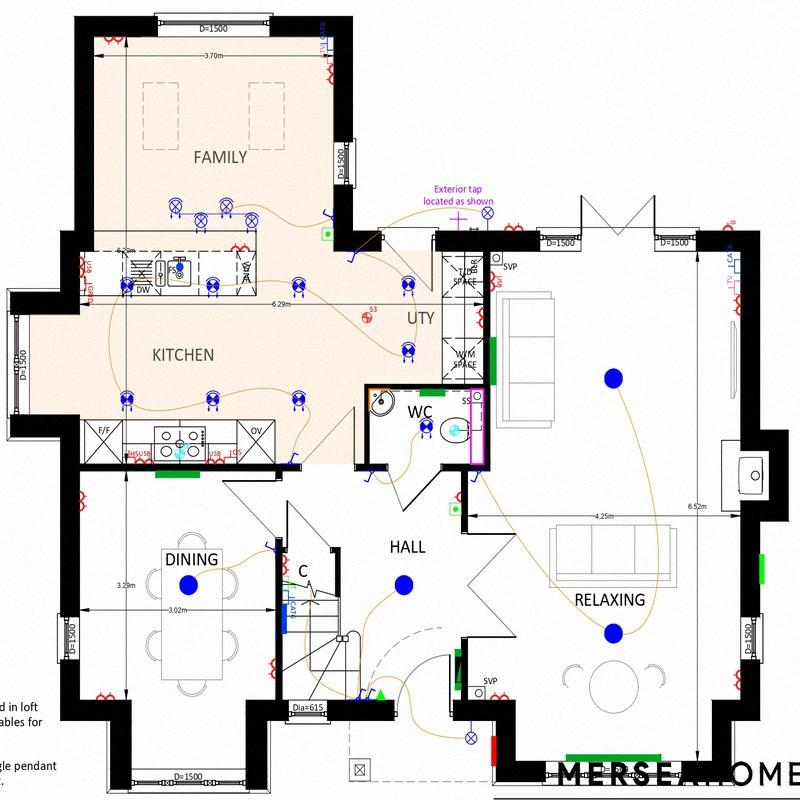BT Entry Point: (376, 690, 385, 700)
Cat 6 Data Socket: (283, 590, 296, 619), (727, 251, 740, 274), (319, 35, 334, 50)
Ceiling Mounted Continuous Extract FanWith Boost Mode Activated By Light Switch: (450, 425, 460, 435)
Ceiling Mounted Continuous Extract FanWith Local Boost Switch: (361, 306, 378, 324)
Co-Ax TV Socket: (726, 275, 740, 294)
Consumer Unit: (455, 657, 461, 683)
Double Socket: (103, 36, 123, 46), (230, 242, 250, 252), (475, 308, 484, 329), (504, 222, 525, 231), (79, 491, 88, 511), (732, 296, 741, 316), (326, 65, 334, 86), (267, 659, 275, 680), (732, 669, 740, 690), (95, 692, 115, 700), (282, 555, 290, 575), (490, 692, 508, 700)
Electric Meter Box: (491, 736, 497, 766)
External Wall Light: (448, 211, 467, 231), (481, 207, 495, 231), (465, 721, 478, 745)
Gas Meter Box: (759, 554, 765, 584)
Grid Switch: (80, 278, 94, 303)
Hob Switch: (124, 450, 138, 464)
Light Switch: (363, 471, 375, 483), (322, 208, 333, 221), (470, 471, 481, 483), (355, 688, 366, 699), (347, 252, 357, 264), (264, 541, 274, 553), (288, 453, 298, 464), (366, 688, 376, 699)
Low Energy Downlighter: (291, 277, 306, 300), (205, 390, 220, 412), (401, 276, 416, 298), (401, 342, 416, 363), (205, 277, 220, 297), (120, 277, 134, 298), (120, 390, 134, 411), (292, 390, 306, 411), (419, 418, 433, 439)
Low Energy Pendant Light: (603, 368, 623, 389), (394, 575, 414, 595), (179, 575, 198, 595), (603, 624, 623, 643)
Outside Socket: (723, 220, 736, 231)
Oven Switch: (225, 449, 241, 464)
Programmable Room Thermostat: (322, 227, 334, 241), (450, 502, 461, 515)
Radiator: (565, 754, 661, 762), (490, 337, 497, 385), (155, 471, 200, 478), (455, 649, 462, 690), (420, 389, 445, 397)
Recirculating Extractor Fan: (175, 444, 189, 458)
Single Socket: (454, 492, 461, 503)
TV & Satellite Multisocket: (319, 45, 333, 63)
Telephone Socket: (282, 575, 294, 590)
Track Light: (167, 197, 259, 234)
USB Double Socket: (490, 271, 503, 292), (79, 257, 92, 277), (205, 451, 224, 464), (136, 450, 153, 464)
Underfloor Heating Manifold: (281, 604, 287, 634)
Water Entry Position: (176, 263, 183, 271)
